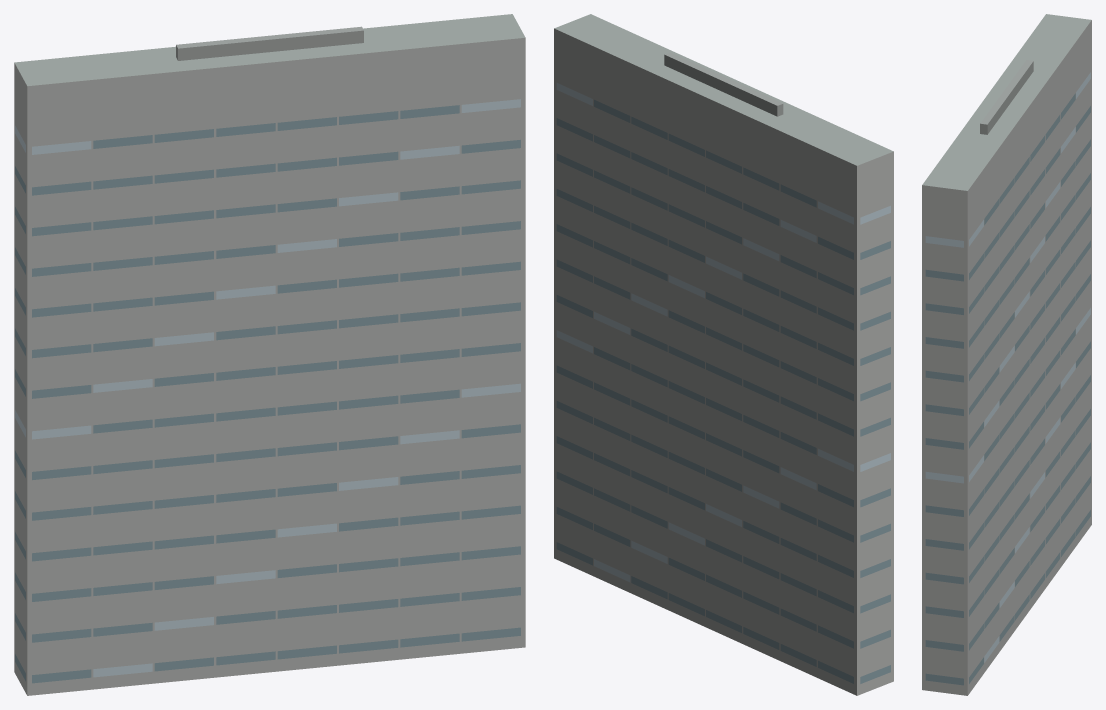
Rendered from fallback-olympic-park-foreon-123.glb.
3 renders of one model, left to right at view 1: azimuth 30°, elevation 25°; view 2: azimuth 150°, elevation 25°; view 3: azimuth 270°, elevation 25°, orthographic. The views are drawn at different scales.
Visible parts, largest first — view 1: fallback-olympic-park-foreon-123; view 2: fallback-olympic-park-foreon-123; view 3: fallback-olympic-park-foreon-123.
Part boxes in pixels (x1,y1,x2,y2): fallback-olympic-park-foreon-123: [14, 14, 525, 695]; fallback-olympic-park-foreon-123: [554, 14, 893, 695]; fallback-olympic-park-foreon-123: [922, 14, 1091, 695].
Bounding box in the file's own units: 88.42 × 120 × 35.83.
